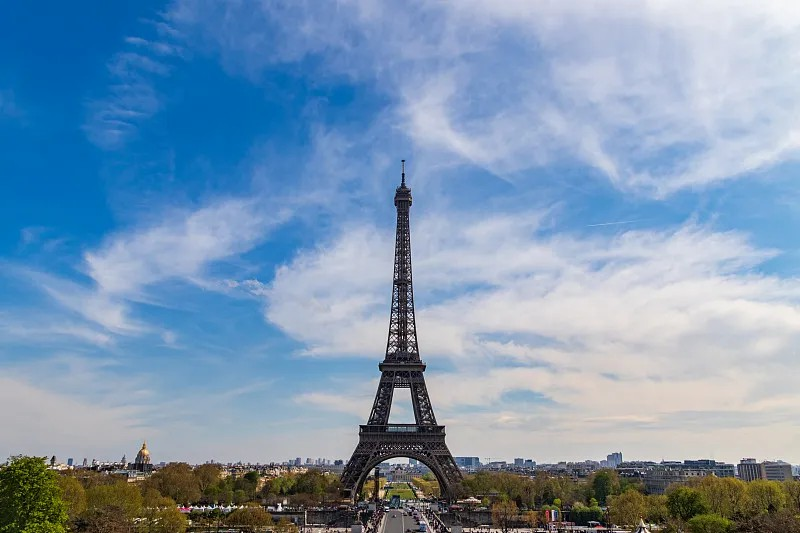Eiffel: (333, 159, 471, 501)
